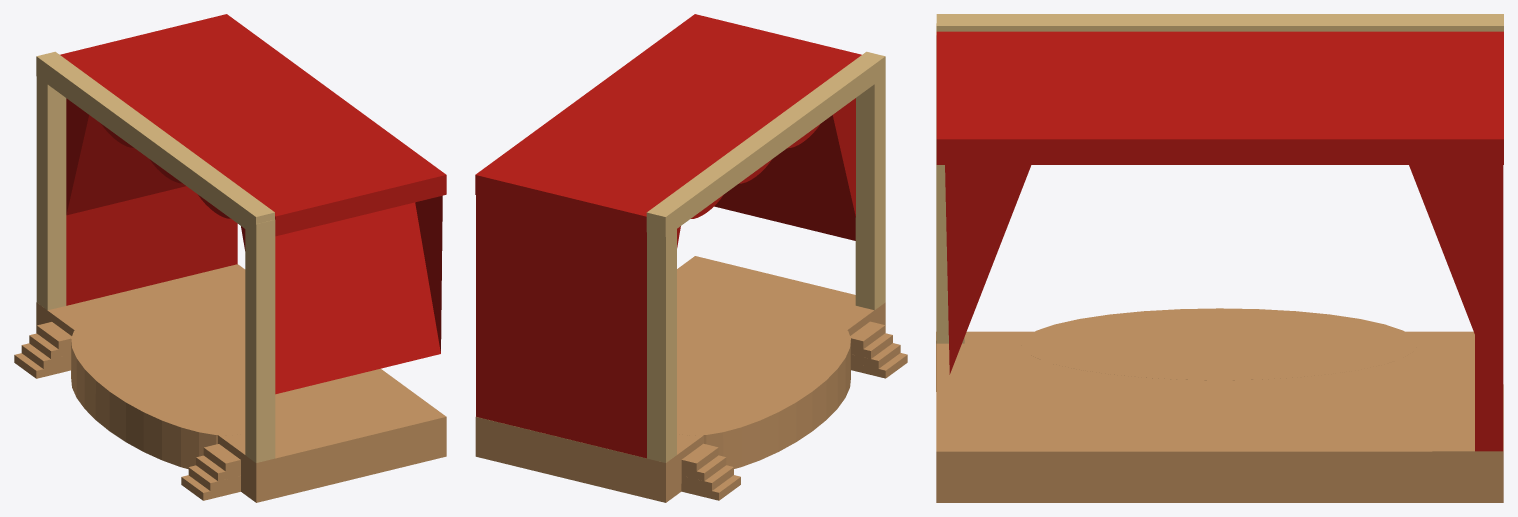
File: stage.fbx
The picture shows the model from 3 angles, left to right: view 1: azimuth 30°, elevation 25°; view 2: azimuth 150°, elevation 25°; view 3: azimuth 270°, elevation 25°; orthographic projection. The views are drawn at different scales.
Parts seen in each view (by area): view 1: Cube.006, Cube.024, Cube.025, Cube.021, Cube.023, Cube.020, Cube.026, Cube.019, Cube.014, Cube.017, Cube.010, Cube.013 (+4 smaller); view 2: Cube.024, Cube.006, Cube.021, Cube.025, Cube.023, Cube.019, Cube.020, Cube.010, Cube.013, Cube.014, Cube.017, Cube.011 (+3 smaller); view 3: Cube.006, Cube.024, Cube.023, Cube.025, Cube.026, Cube.021, Cube.020.
Part boxes in pixels (bbox=[...]): Cube.006: bbox=[36, 264, 446, 502]; Cube.024: bbox=[60, 14, 446, 236]; Cube.025: bbox=[241, 195, 442, 394]; Cube.021: bbox=[66, 186, 237, 305]; Cube.023: bbox=[36, 51, 274, 236]; Cube.020: bbox=[245, 217, 275, 462]; Cube.026: bbox=[66, 98, 185, 215]; Cube.019: bbox=[36, 65, 66, 310]; Cube.014: bbox=[181, 475, 240, 500]; Cube.017: bbox=[203, 444, 240, 471]; Cube.010: bbox=[14, 353, 70, 378]; Cube.013: bbox=[36, 322, 71, 349]; Cube.024: bbox=[475, 14, 861, 236]; Cube.006: bbox=[475, 256, 885, 502]; Cube.021: bbox=[476, 195, 646, 458]; Cube.025: bbox=[714, 98, 855, 240]; Cube.023: bbox=[646, 51, 885, 236]; Cube.019: bbox=[647, 216, 676, 462]; Cube.020: bbox=[855, 63, 885, 310]; Cube.010: bbox=[681, 475, 740, 500]; Cube.013: bbox=[681, 443, 718, 471]; Cube.014: bbox=[851, 353, 907, 378]; Cube.017: bbox=[850, 321, 885, 349]; Cube.011: bbox=[681, 465, 733, 490]; Cube.006: bbox=[936, 308, 1503, 502]; Cube.024: bbox=[936, 31, 1503, 164]; Cube.023: bbox=[936, 14, 1503, 31]; Cube.025: bbox=[945, 165, 1031, 374]; Cube.026: bbox=[1409, 165, 1494, 374]; Cube.021: bbox=[1475, 165, 1503, 451]; Cube.020: bbox=[936, 23, 964, 343].
Bounding box in the file's own units: 1199 × 1436 × 2001.
